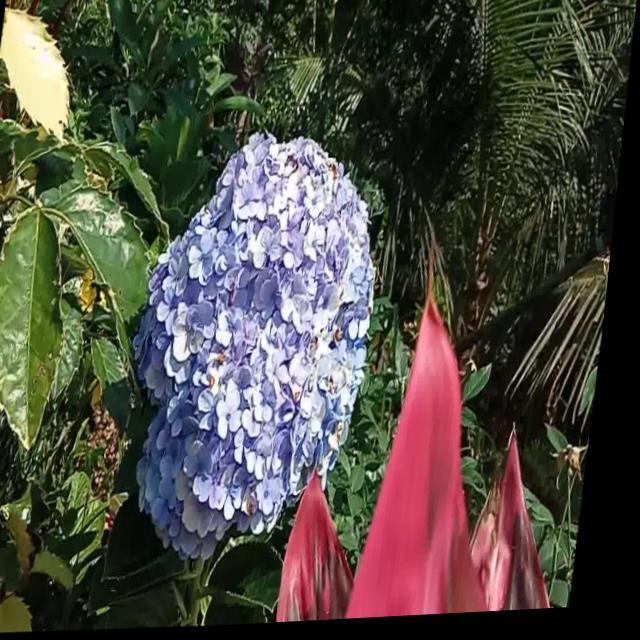Flower: (125, 125, 400, 564)
